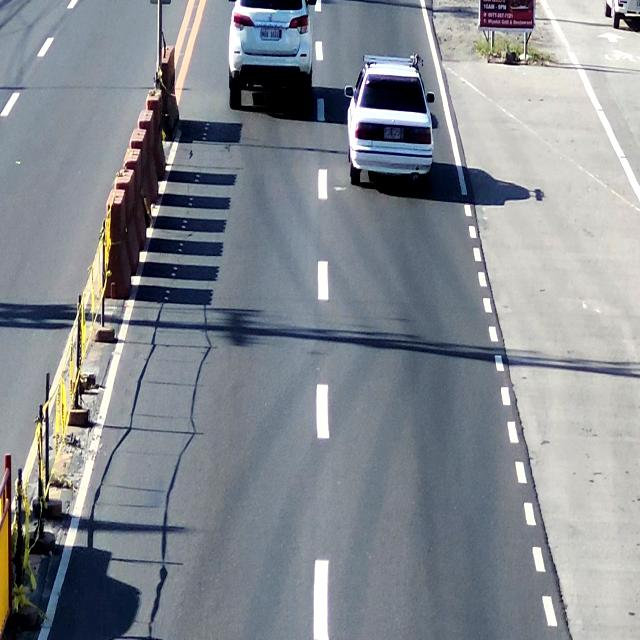Car: (341, 54, 436, 191), (227, 0, 314, 112)
License-Plate: (259, 25, 282, 44), (381, 125, 404, 143)
